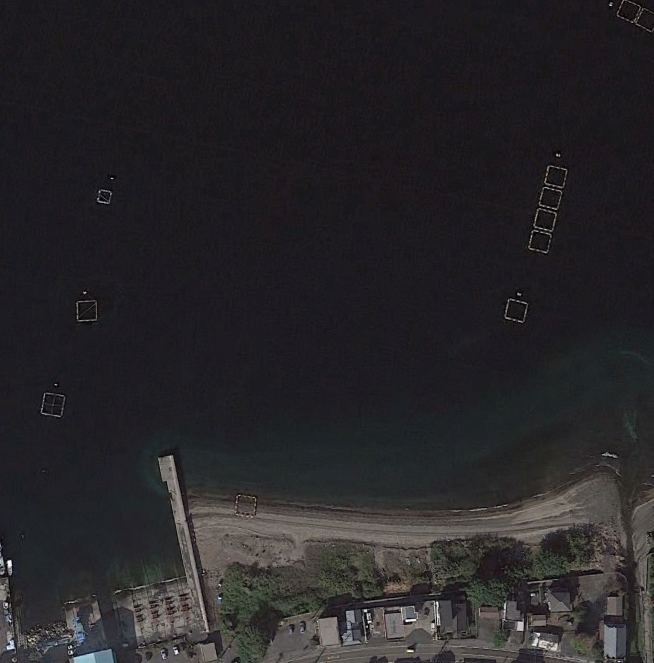house: (436, 596, 473, 637), (338, 602, 368, 645), (313, 612, 348, 648), (600, 621, 629, 660), (531, 629, 561, 655), (546, 589, 574, 614), (502, 598, 526, 626), (602, 592, 626, 618), (197, 638, 218, 663), (477, 600, 502, 620), (399, 602, 422, 622), (527, 611, 549, 628)
ship: (2, 557, 16, 576)
square: (36, 386, 69, 420), (73, 292, 103, 326), (543, 158, 574, 190), (502, 292, 532, 325), (611, 1, 644, 26), (539, 183, 568, 211), (528, 225, 554, 255), (533, 204, 561, 231), (633, 6, 654, 34), (92, 184, 116, 206)
